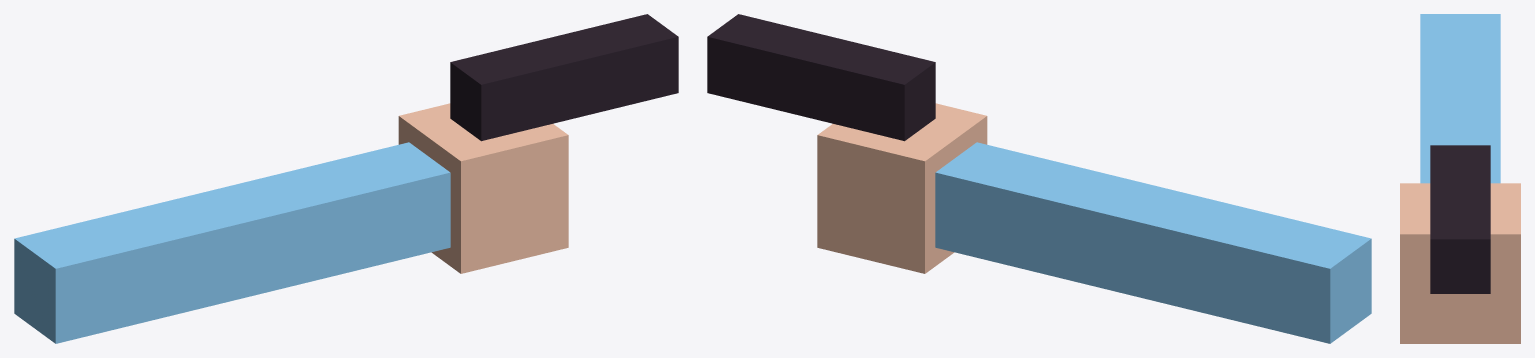
The model's file is testarm.fbx.
The picture shows the model from 3 angles, left to right: view 1: azimuth 30°, elevation 25°; view 2: azimuth 150°, elevation 25°; view 3: azimuth 270°, elevation 25°; orthographic projection. The views are drawn at different scales.
Parts seen in each view (by area): view 1: mesh; view 2: mesh; view 3: mesh.
Boxes of the visible parts, x1,y1,x2,y2 form: mesh: [14, 14, 678, 343]; mesh: [707, 14, 1371, 343]; mesh: [1400, 14, 1520, 343].
Bounding box in the file's own units: 219 × 56.25 × 37.5.
1 material, 1 textured.
